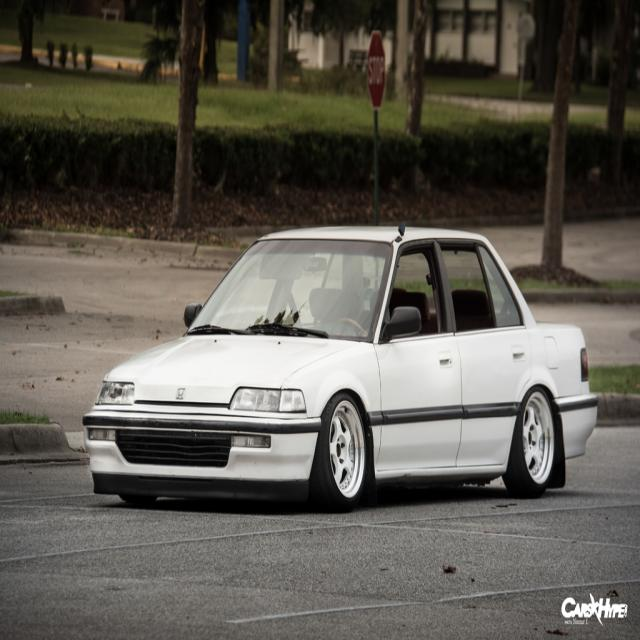car: (84, 230, 604, 508)
